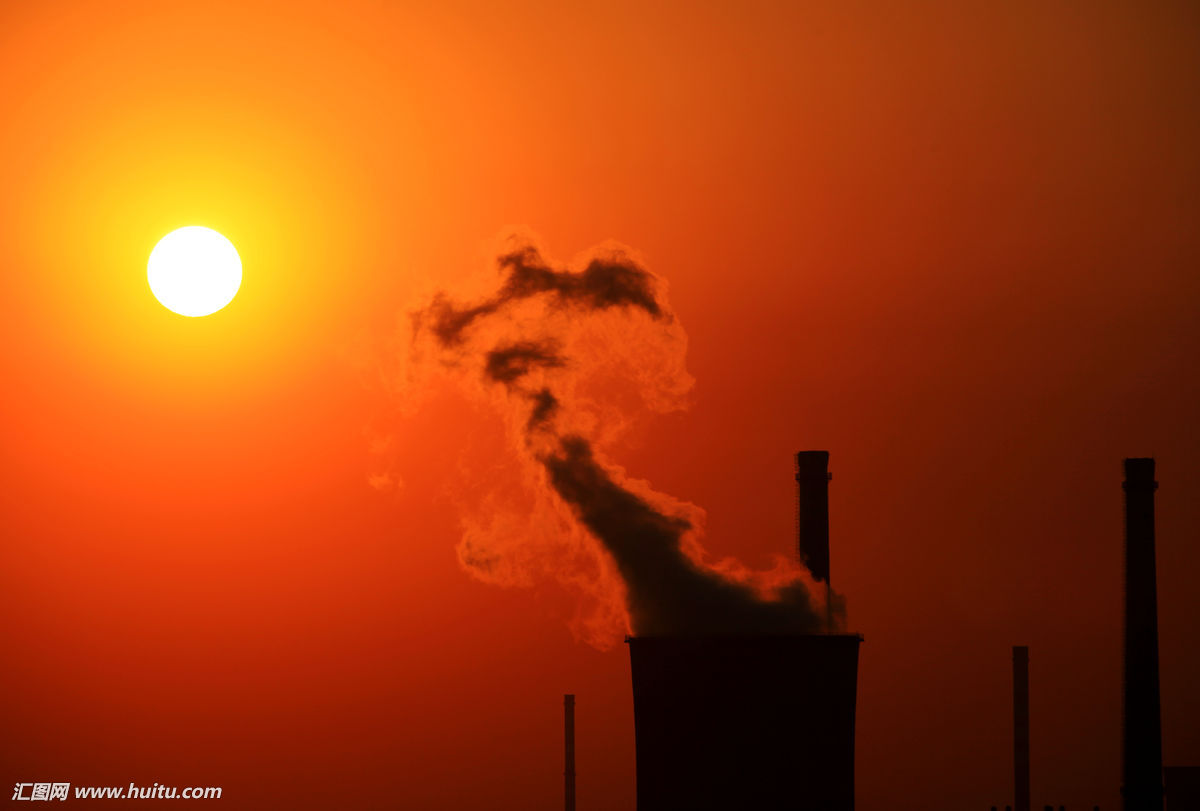dust: (497, 350, 886, 667)
